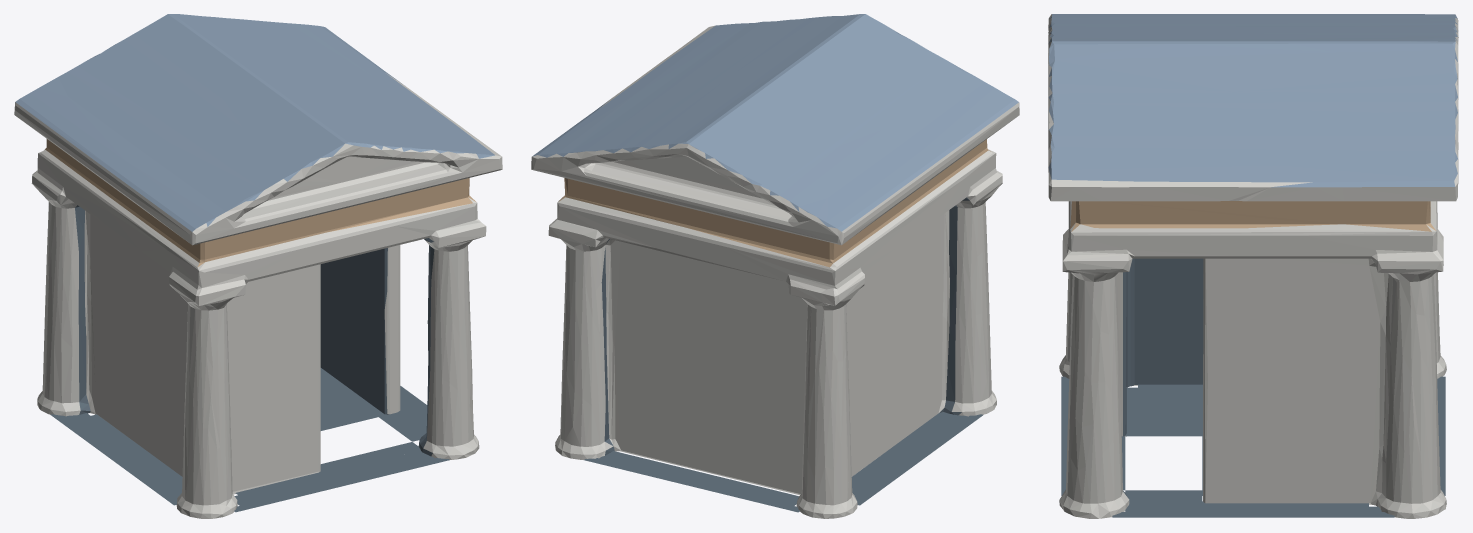
3 views of the same model, side by side, from view 1: azimuth 30°, elevation 25°; view 2: azimuth 150°, elevation 25°; view 3: azimuth 270°, elevation 25° (orthographic). The views are drawn at different scales.
Visible parts, largest first — view 1: geometry_0; view 2: geometry_0; view 3: geometry_0.
Part boxes in pixels (left/top/right/bottom): geometry_0: left=14, top=14, right=502, bottom=518; geometry_0: left=531, top=14, right=1019, bottom=518; geometry_0: left=1048, top=14, right=1458, bottom=518.
Size of the model in its own units: 0.8566 by 0.9126 by 0.8586.
